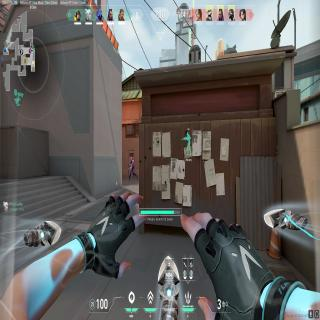ENEMY-HEAD: (131, 156, 133, 160)
